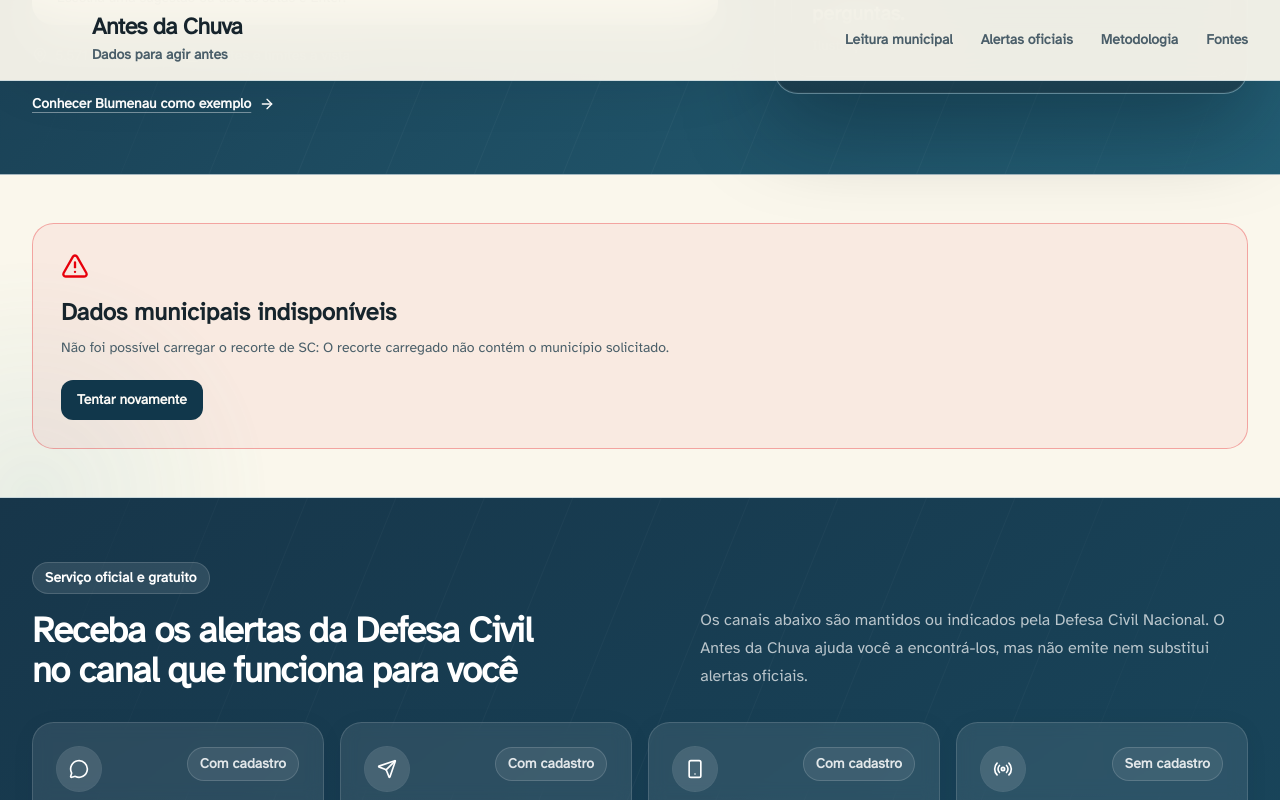
it: municipal v1 loading › refetches a shard after it did not contain the requested municipality
The width and height of the screenshot is (1280, 800).
(page scrolled)
Expected: the heading "Dados municipais indisponíveis" is shown, x1=61 y1=297 x2=396 y2=327
Click the button "Tentar novamente".
click(132, 400)  # box x1=61 y1=380 x2=203 y2=420
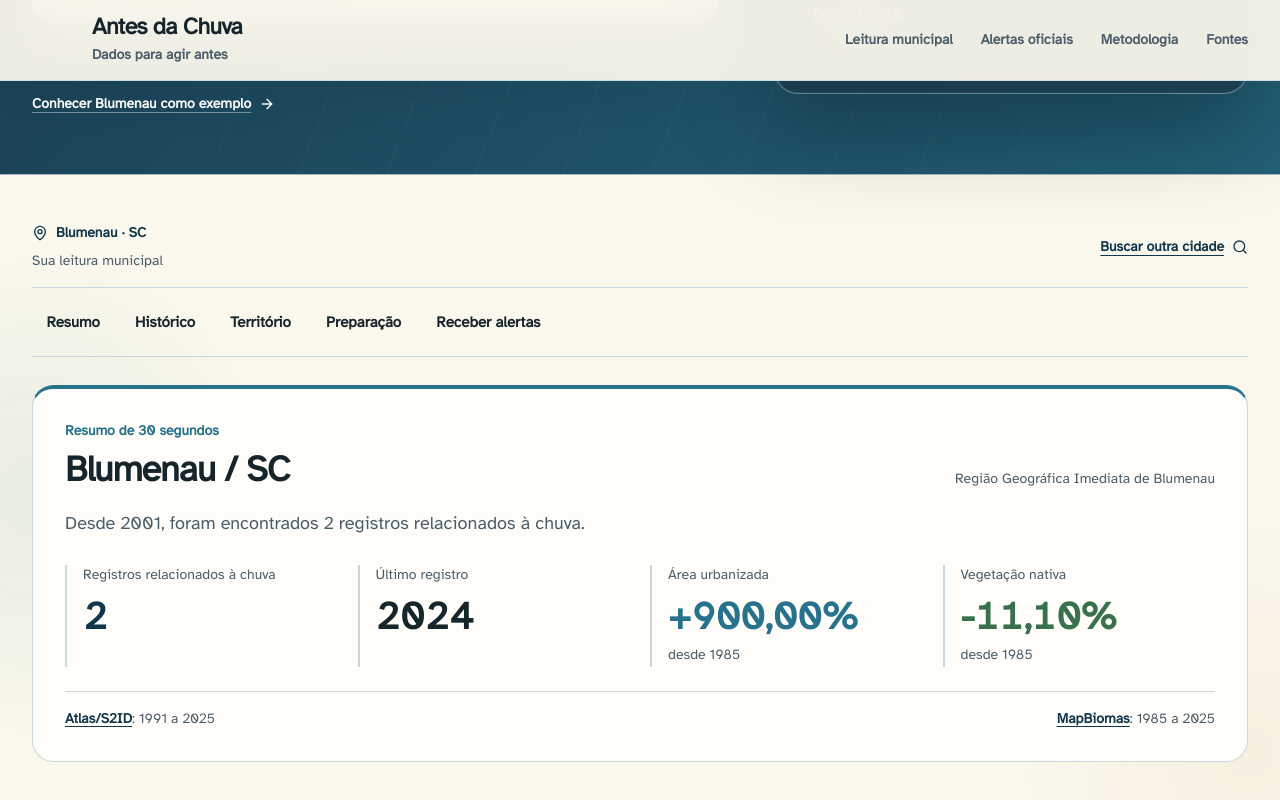
Now the text "Blumenau · SC" is shown, box x1=32 y1=223 x2=163 y2=243
